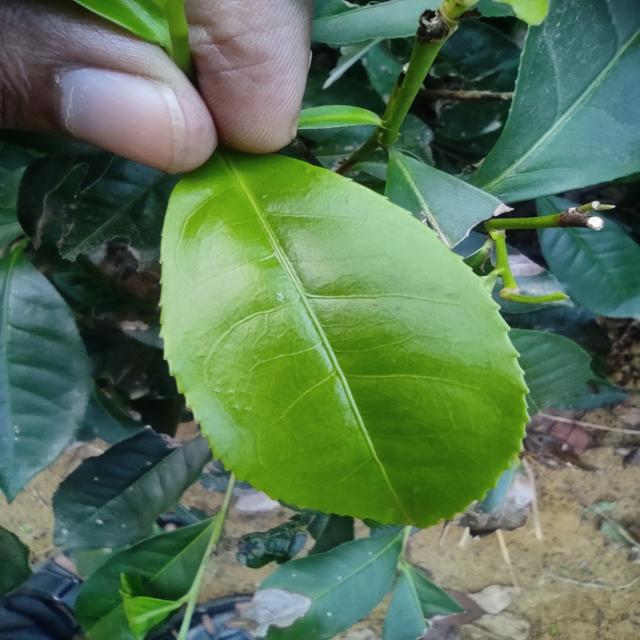Category C(4-7 days): (114, 111, 546, 540)
